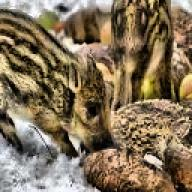boar: (0, 6, 114, 159)
